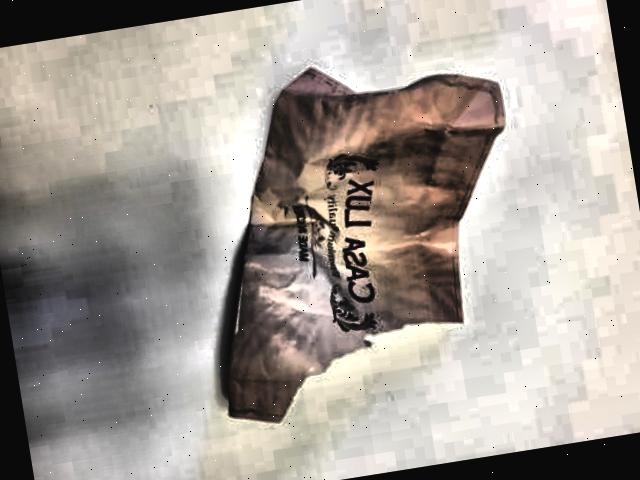Paper: (167, 27, 554, 436)
